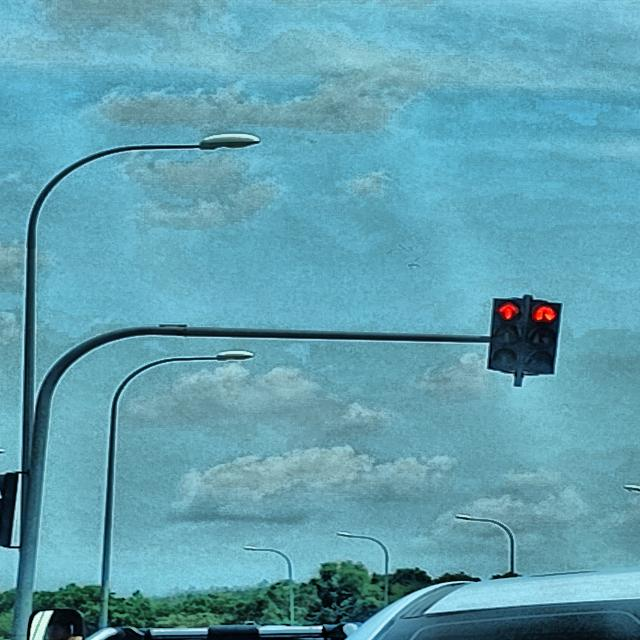red: (487, 297, 529, 372), (527, 300, 562, 374)
